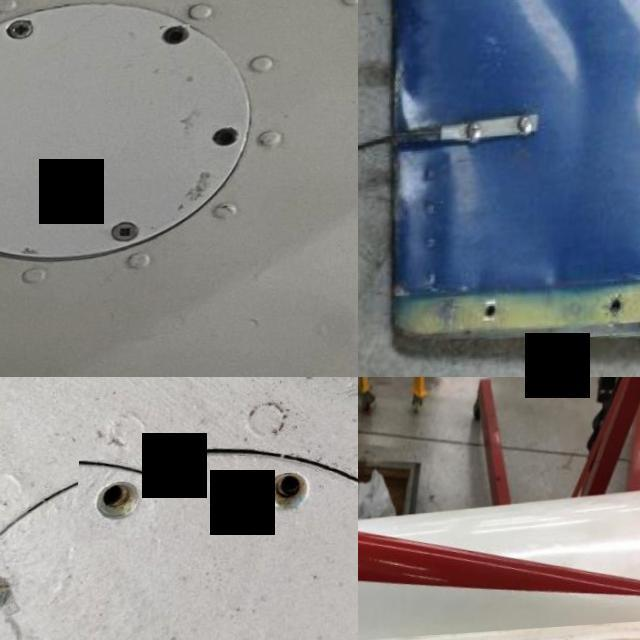Missing_Fastener: (256, 447, 338, 537), (80, 459, 164, 544), (213, 128, 244, 154), (160, 28, 191, 51)
